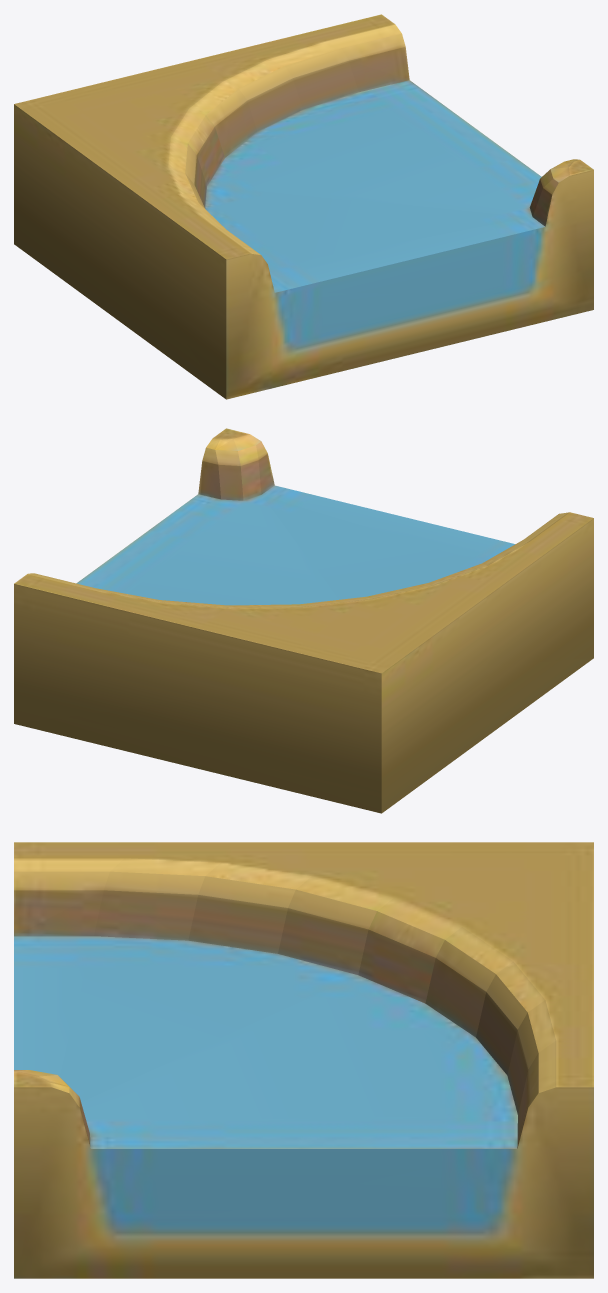
File: creek_end.glb
The picture shows the model from 3 angles, top to bottom: view 1: azimuth 30°, elevation 25°; view 2: azimuth 150°, elevation 25°; view 3: azimuth 270°, elevation 25°; orthographic projection. The views are drawn at different scales.
Visible parts, largest first — view 1: creek_end; view 2: creek_end; view 3: creek_end.
Boxes of the visible parts, x1,y1,x2,y2 form: creek_end: (14, 14, 593, 399); creek_end: (14, 428, 593, 813); creek_end: (14, 842, 593, 1278).
Size of the model in its own units: 2 by 0.7285 by 2.
Materials: 1 (1 with a texture image).
